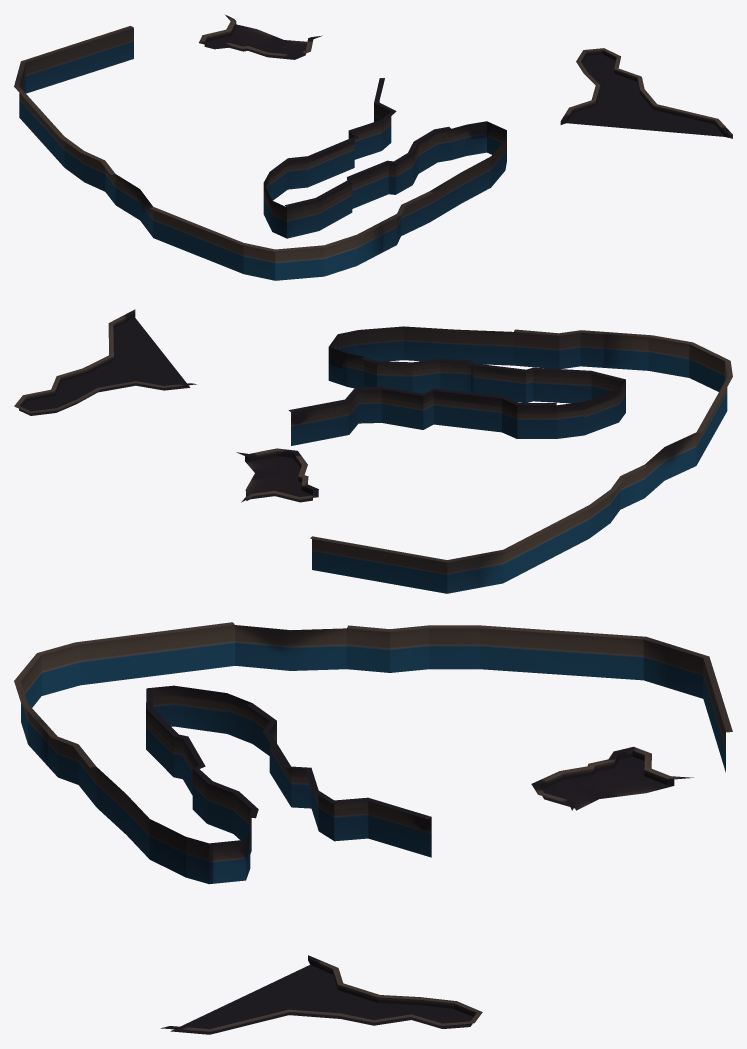
The model's file is Ground_02.FBX.
The picture shows the model from 3 angles, top to bottom: view 1: azimuth 30°, elevation 25°; view 2: azimuth 150°, elevation 25°; view 3: azimuth 270°, elevation 25°; orthographic projection. The views are drawn at different scales.
Parts seen in each view (by area): view 1: Ground_02; view 2: Ground_02; view 3: Ground_02.
Part boxes in pixels (x1=…): Ground_02: x1=14, y1=14, x2=732, y2=280; Ground_02: x1=14, y1=309, x2=732, y2=593; Ground_02: x1=14, y1=622, x2=732, y2=1034.
Bounding box in the file's own units: 35.68 × 2.96 × 30.44.
